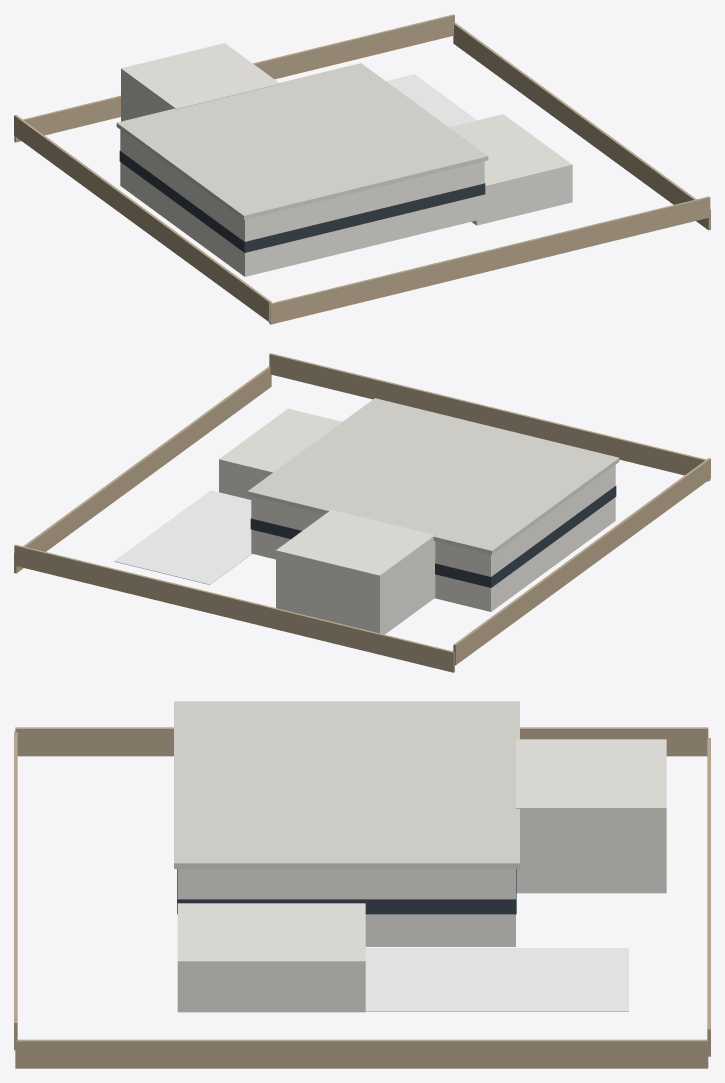
Rendered from nd_villa6520.glb.
3 renders of one model, top to bottom at view 1: azimuth 30°, elevation 25°; view 2: azimuth 150°, elevation 25°; view 3: azimuth 270°, elevation 25°, orthographic. The views are drawn at different scales.
Parts seen in each view (by area): view 1: nd_villa6520_lod0; view 2: nd_villa6520_lod0; view 3: nd_villa6520_lod0.
Part boxes in pixels (x1,y1,x2,y2): nd_villa6520_lod0: (14,14,710,324); nd_villa6520_lod0: (14,353,710,672); nd_villa6520_lod0: (14,701,710,1068).
Size of what is drawn, in the model's own units: 55.3 by 8.55 by 55.6.
